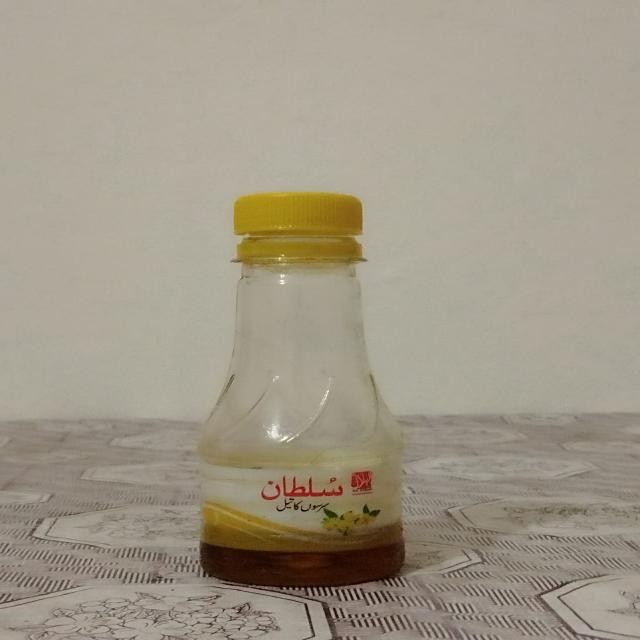bottle: (180, 178, 429, 592)
cap: (229, 194, 372, 277)
label: (196, 448, 399, 582)
